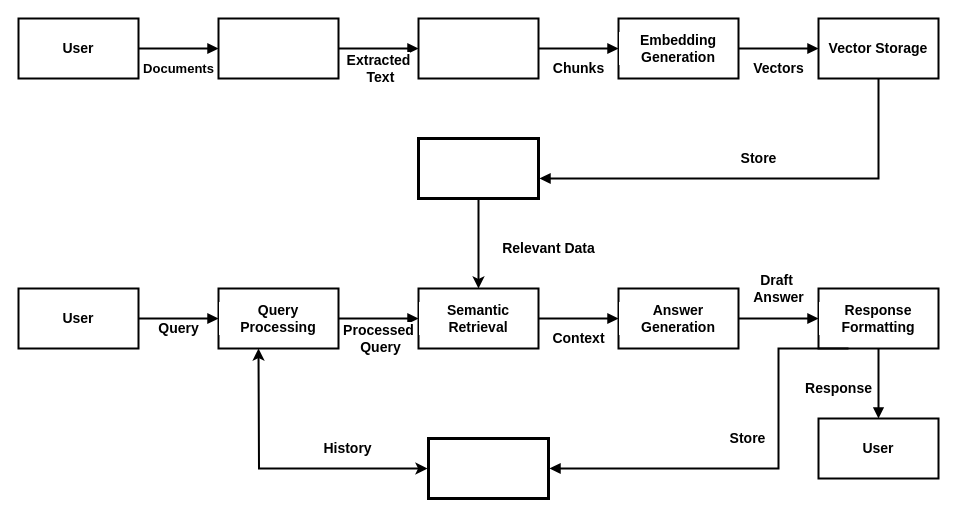
The diagram is 956 pixels wide and 517 high, and some of its shapes have lost their labels. Each missing label, with the centre of its shape:
Chat Sessions Store: (x=488, y=468)
Document Processing: (x=278, y=48)
Text Chunking: (x=478, y=48)
Vector Database (ChromaDB): (x=478, y=168)
